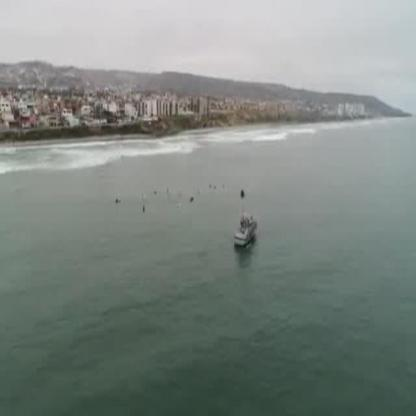Boat: (232, 216, 256, 247)
